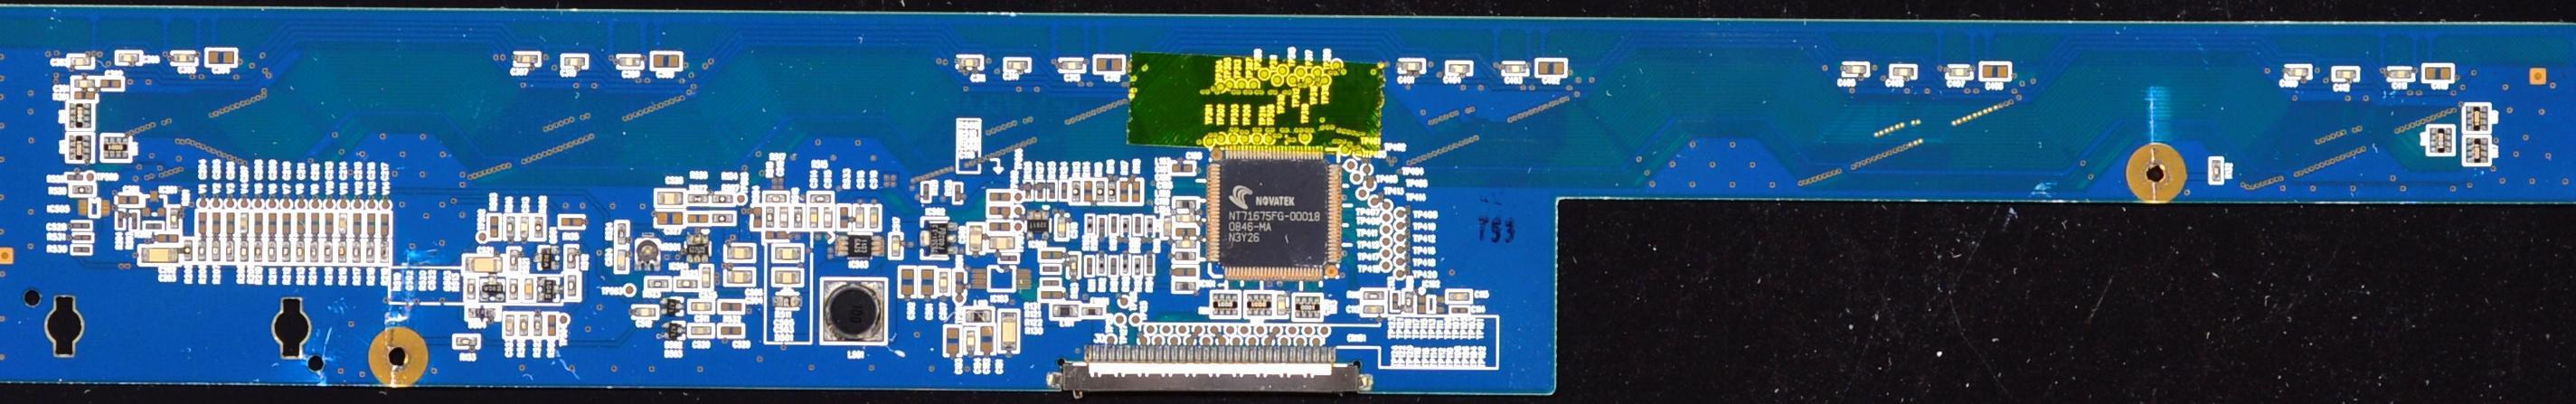Capacitor: (1001, 313, 1016, 351), (467, 256, 504, 273), (141, 248, 178, 263), (901, 268, 915, 296), (1537, 61, 1566, 76), (1982, 64, 2009, 79), (2425, 66, 2452, 80), (727, 247, 753, 261), (775, 247, 801, 261), (775, 269, 801, 284), (969, 225, 983, 252), (921, 268, 934, 296), (653, 54, 680, 68), (208, 50, 233, 64), (656, 192, 683, 205), (989, 236, 1015, 250), (726, 270, 752, 284), (1096, 57, 1122, 71), (656, 211, 684, 224), (980, 325, 993, 352), (946, 328, 958, 354), (1363, 305, 1384, 315), (618, 56, 641, 67), (563, 56, 586, 68), (2286, 67, 2308, 79), (1448, 291, 1471, 302), (636, 307, 656, 318), (173, 53, 194, 64), (1007, 60, 1029, 70), (1448, 63, 1471, 75), (1892, 66, 1914, 78), (809, 205, 819, 230), (1504, 63, 1527, 74), (779, 206, 788, 228), (225, 211, 235, 234), (339, 212, 348, 235), (1175, 281, 1197, 291), (691, 302, 712, 312), (967, 331, 976, 352), (118, 53, 141, 62), (516, 54, 539, 64), (1845, 64, 1868, 74), (870, 207, 879, 229), (520, 216, 529, 239), (1175, 240, 1196, 249), (617, 249, 627, 271), (702, 267, 711, 287), (524, 278, 534, 301), (1277, 295, 1287, 315), (690, 325, 711, 335), (1061, 61, 1083, 70), (1401, 61, 1423, 70), (1950, 67, 1972, 77), (2335, 69, 2356, 80), (2391, 70, 2411, 80), (100, 79, 122, 89), (959, 57, 979, 67), (254, 211, 263, 234), (241, 211, 249, 235), (311, 211, 319, 234), (198, 212, 207, 234), (268, 212, 277, 234), (325, 213, 333, 236), (381, 213, 390, 236), (939, 271, 948, 294), (720, 326, 742, 335), (1172, 164, 1194, 173), (118, 196, 140, 204), (825, 207, 833, 228), (855, 207, 864, 229), (367, 213, 375, 234), (283, 213, 291, 234), (1058, 217, 1067, 239), (892, 235, 901, 257), (505, 315, 514, 336), (71, 57, 91, 66), (74, 79, 96, 87), (1176, 214, 1196, 222), (212, 212, 220, 232), (157, 234, 178, 243), (297, 212, 305, 234), (353, 213, 360, 235), (1165, 217, 1172, 237), (1451, 306, 1468, 314)
IC: (1204, 145, 1343, 280)
Resistor: (989, 206, 1011, 216), (712, 212, 733, 223), (456, 336, 479, 347), (2212, 159, 2222, 182), (533, 217, 543, 240), (505, 216, 516, 240), (309, 240, 318, 262), (380, 240, 389, 263), (1040, 250, 1062, 260), (1070, 255, 1079, 277), (1041, 290, 1063, 300), (520, 314, 529, 336), (1108, 181, 1117, 202), (988, 193, 1011, 202), (809, 194, 831, 203), (713, 194, 734, 204), (840, 207, 850, 229), (687, 214, 708, 223), (170, 209, 179, 230), (617, 223, 627, 245), (766, 230, 788, 240), (281, 240, 290, 261), (510, 249, 519, 271), (646, 279, 669, 289), (508, 278, 518, 301), (1363, 291, 1384, 300), (1405, 292, 1414, 314), (533, 315, 543, 336), (241, 241, 250, 261), (567, 248, 577, 268), (74, 91, 97, 100), (71, 185, 94, 194), (1072, 180, 1081, 203), (184, 240, 193, 262), (366, 240, 374, 262), (268, 240, 276, 263), (353, 240, 362, 262), (325, 240, 333, 263), (568, 274, 576, 296), (547, 314, 555, 337), (1096, 181, 1104, 202), (1120, 181, 1128, 202), (1084, 181, 1093, 202), (766, 194, 787, 202), (794, 206, 802, 227), (766, 207, 774, 228), (753, 207, 761, 229), (988, 222, 1011, 230), (212, 240, 221, 261), (254, 240, 263, 261), (338, 241, 346, 262), (467, 278, 476, 300), (688, 193, 709, 202), (1042, 279, 1061, 287), (676, 279, 697, 287), (297, 240, 305, 262), (1134, 216, 1142, 234), (1109, 258, 1117, 277), (198, 240, 206, 261), (1134, 258, 1141, 275), (1042, 266, 1061, 273), (1048, 183, 1055, 200), (131, 212, 137, 230), (1146, 256, 1154, 274), (1099, 257, 1105, 274), (1086, 257, 1093, 275), (67, 174, 83, 181), (1024, 182, 1032, 199), (1036, 182, 1043, 199), (923, 183, 930, 201), (954, 183, 961, 200), (1087, 215, 1094, 232), (1110, 216, 1118, 233), (146, 223, 162, 230), (1122, 218, 1128, 235), (1146, 218, 1153, 234), (1099, 218, 1106, 235), (1122, 258, 1129, 275), (1133, 182, 1139, 202), (73, 246, 90, 253), (118, 211, 124, 228), (74, 234, 91, 240), (1061, 182, 1067, 199)
